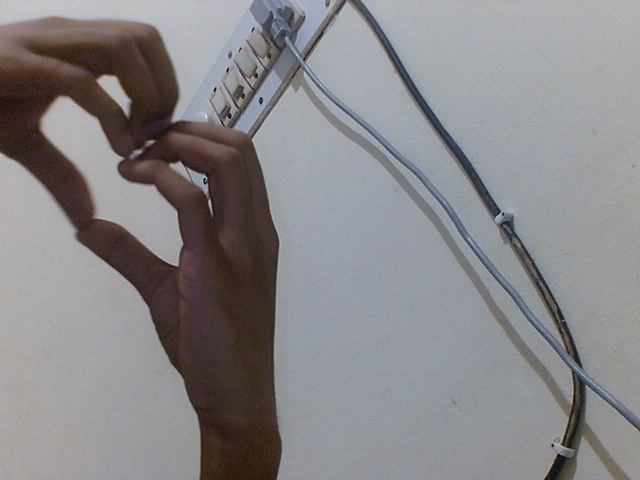hand: (74, 118, 296, 454), (1, 1, 188, 226)
